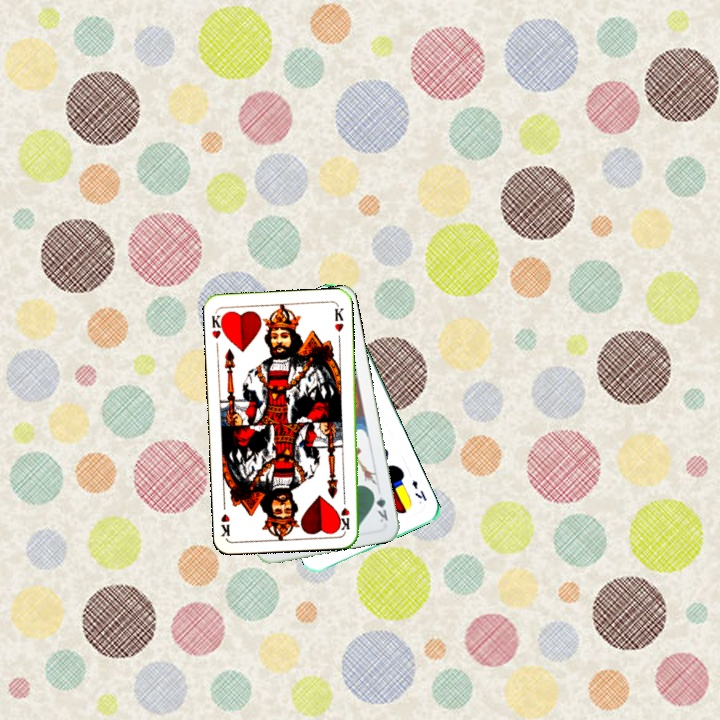EK: (408, 476, 430, 503)
GK: (369, 487, 390, 525)
HK: (208, 310, 228, 341), (337, 492, 352, 533)
